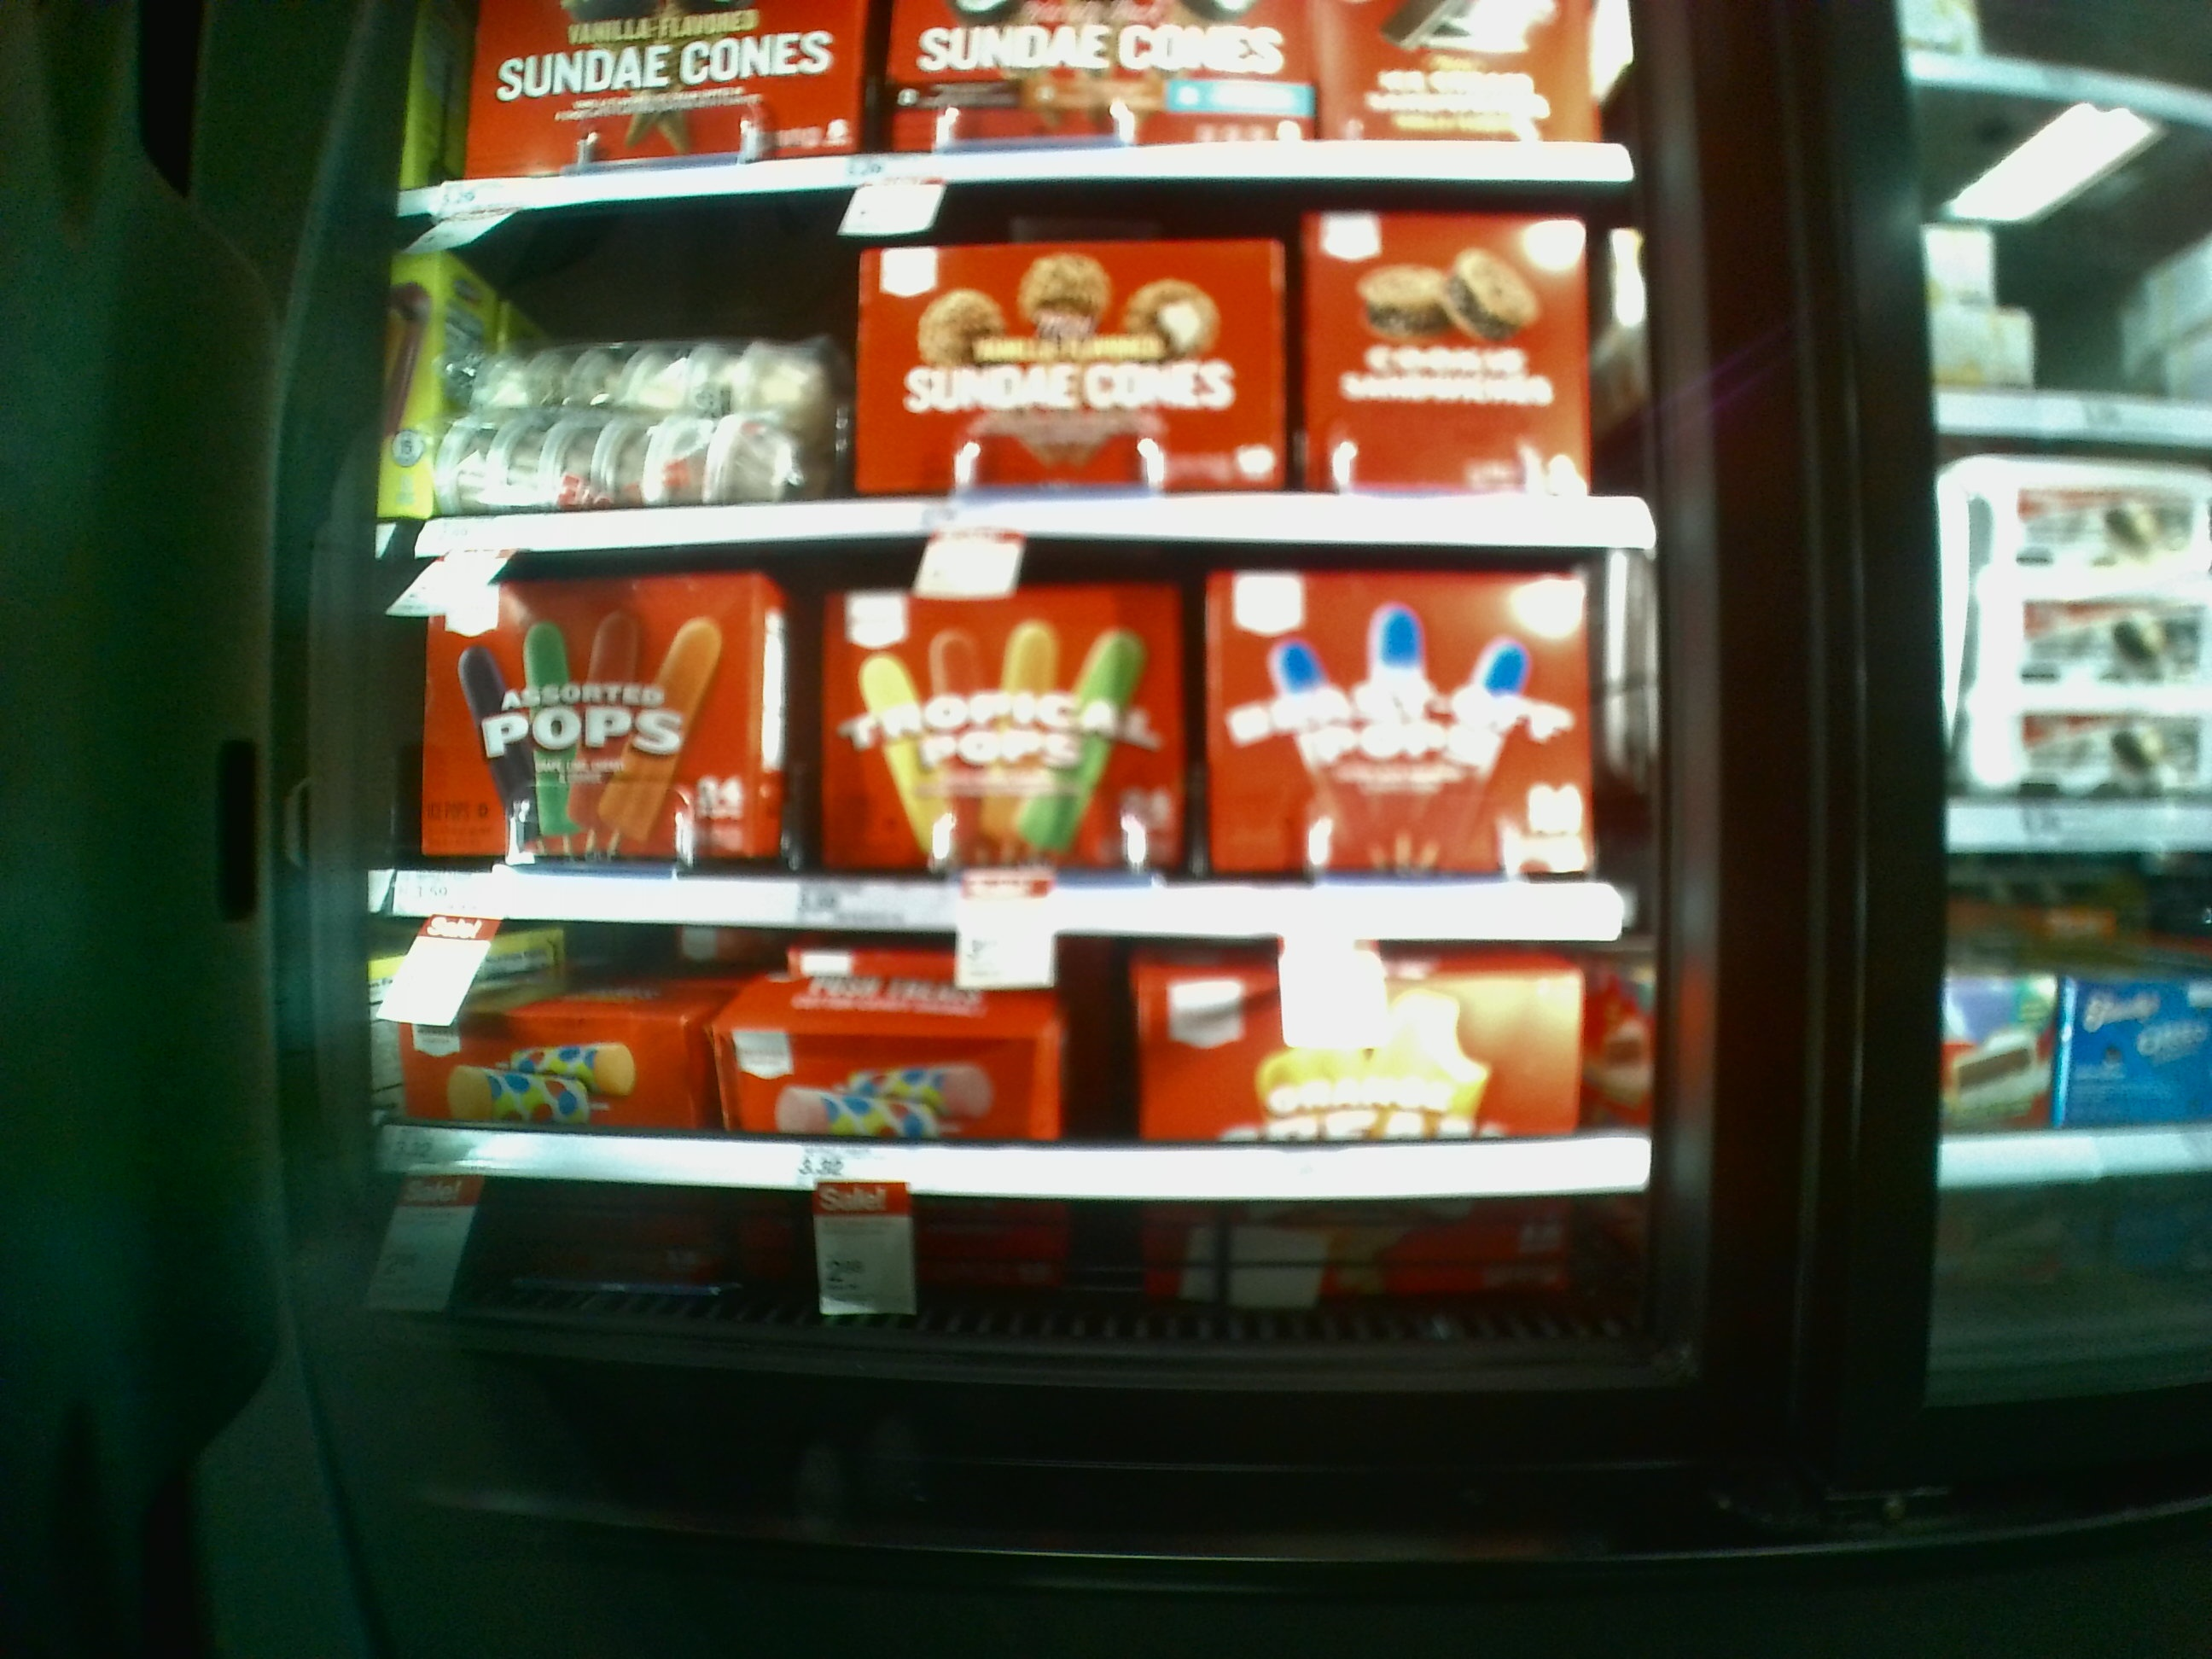shelf: (378, 911, 1629, 1335), (387, 544, 1639, 943), (408, 199, 1599, 552)
